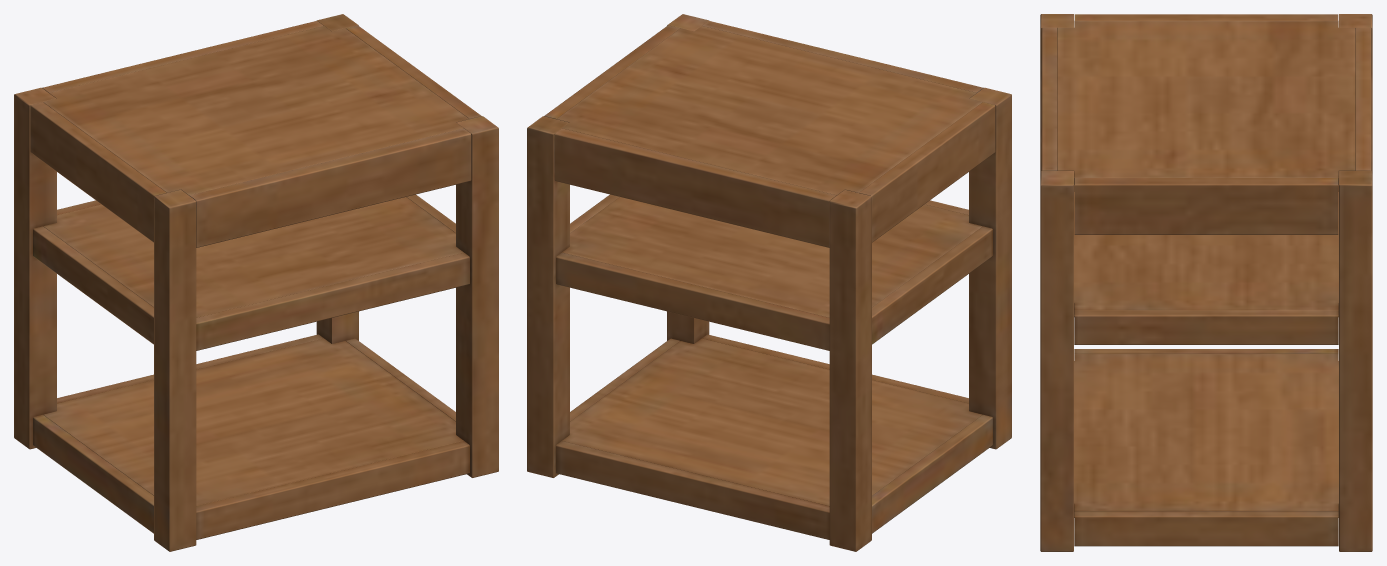
File: side_table_lod1.glb
3 views of the same model, side by side, from view 1: azimuth 30°, elevation 25°; view 2: azimuth 150°, elevation 25°; view 3: azimuth 270°, elevation 25° (orthographic). The views are drawn at different scales.
Size of the model in its own units: 0.55 by 0.5507 by 0.45.
1 material, 1 textured.
